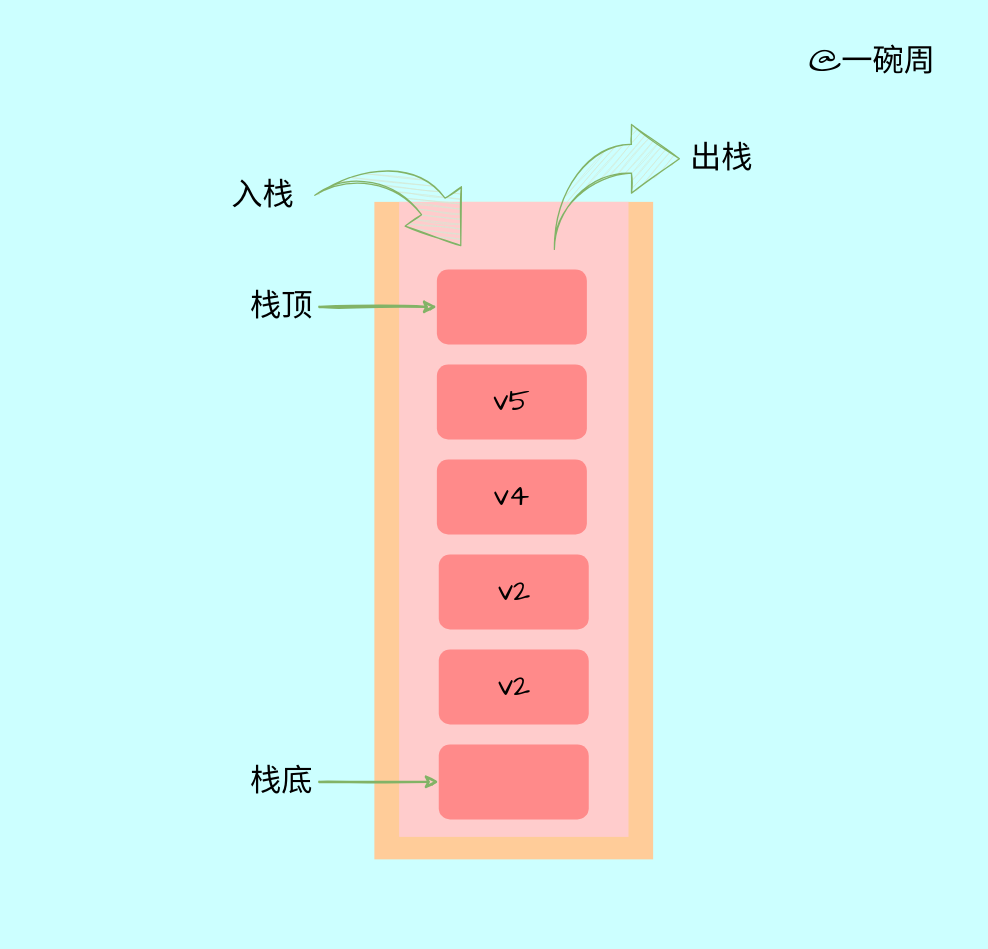
This 988x949 diagram has some shape labels left out. Here are the shapes that lost their labels. From the top down, the centre of each, then its label:
At point (511, 306): "v6".
At point (513, 781): "v1".
